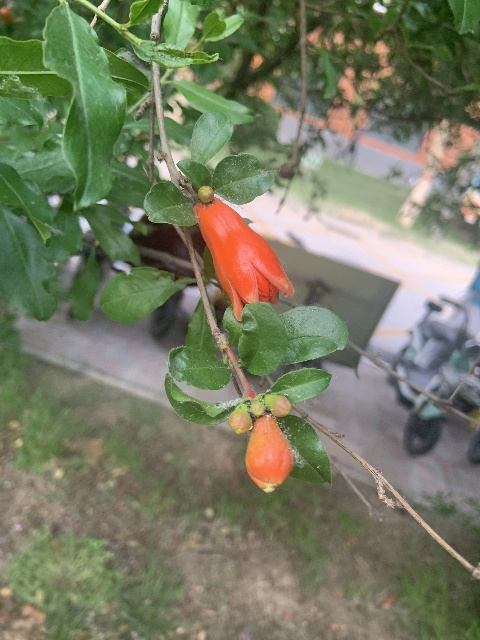bud: (245, 414, 293, 490), (228, 403, 252, 434), (263, 393, 292, 417)
flower: (194, 195, 294, 319)
